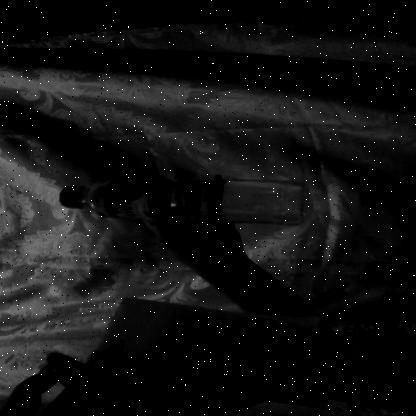Plastic Bottle: (36, 154, 349, 236)
